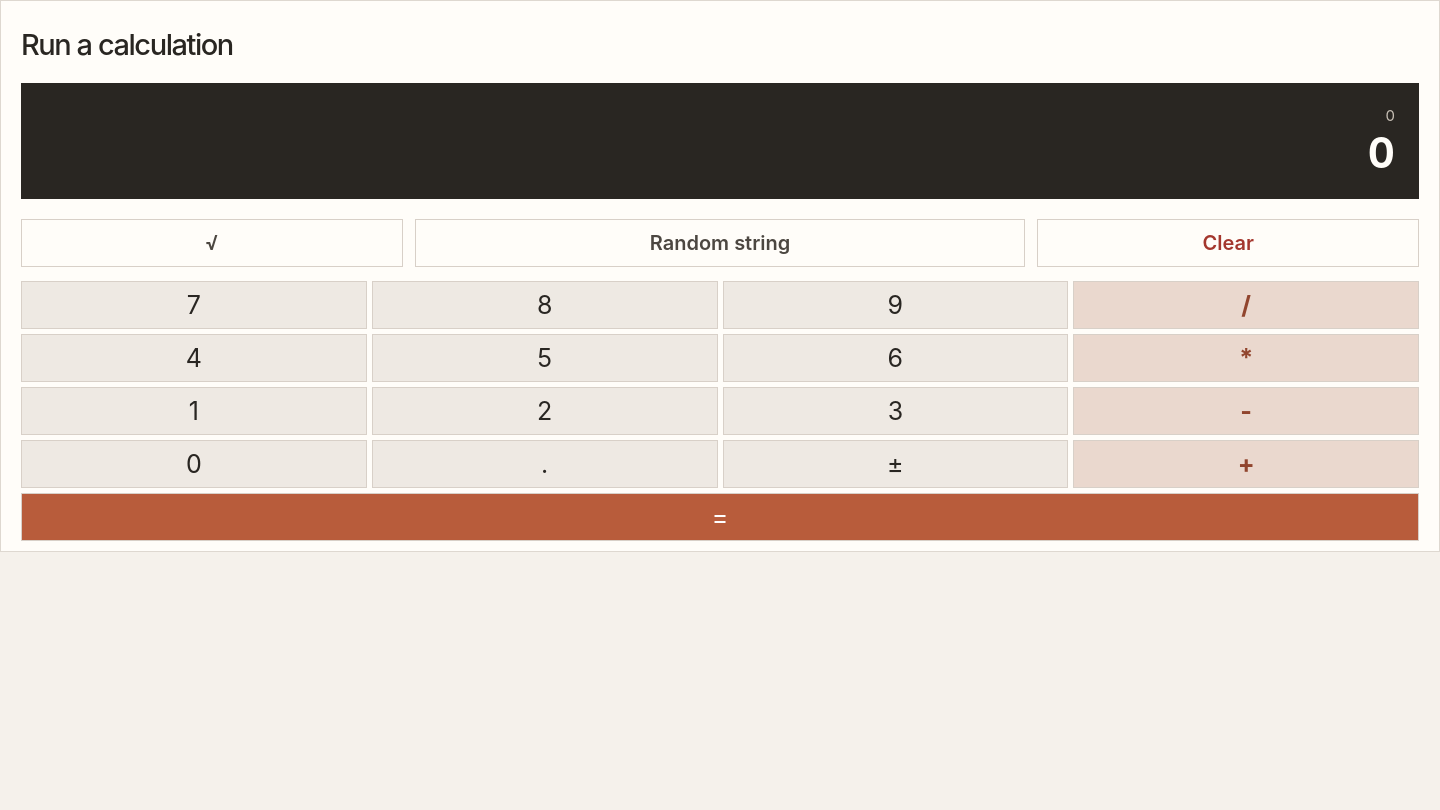
Test: Calculator › closes the Bootstrap alert with its in-layout close button
Click the button "2" at {"x": 545, "y": 411}, box [372,387,718,435]
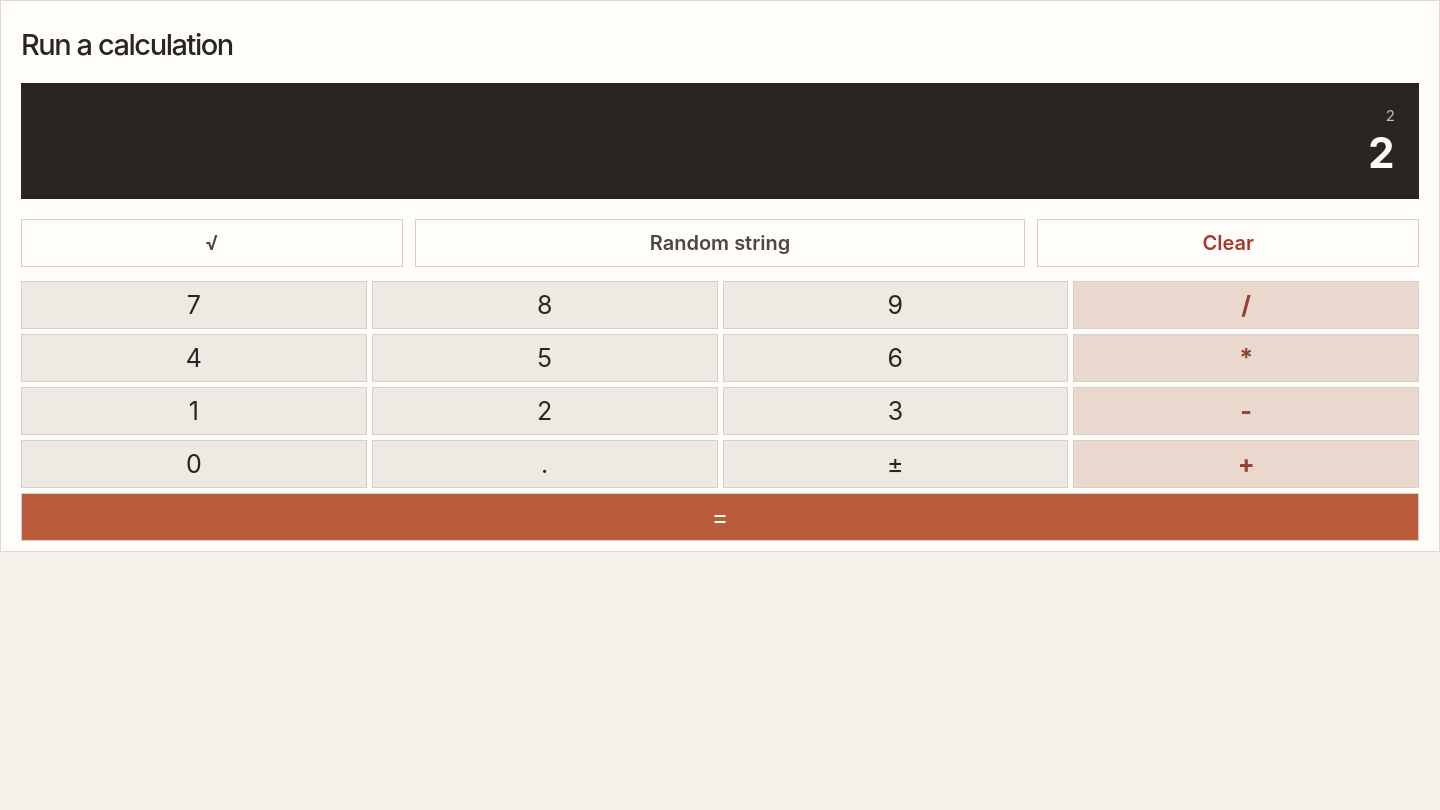
Click the button "+" at {"x": 1246, "y": 464}, box [1073,440,1419,488]
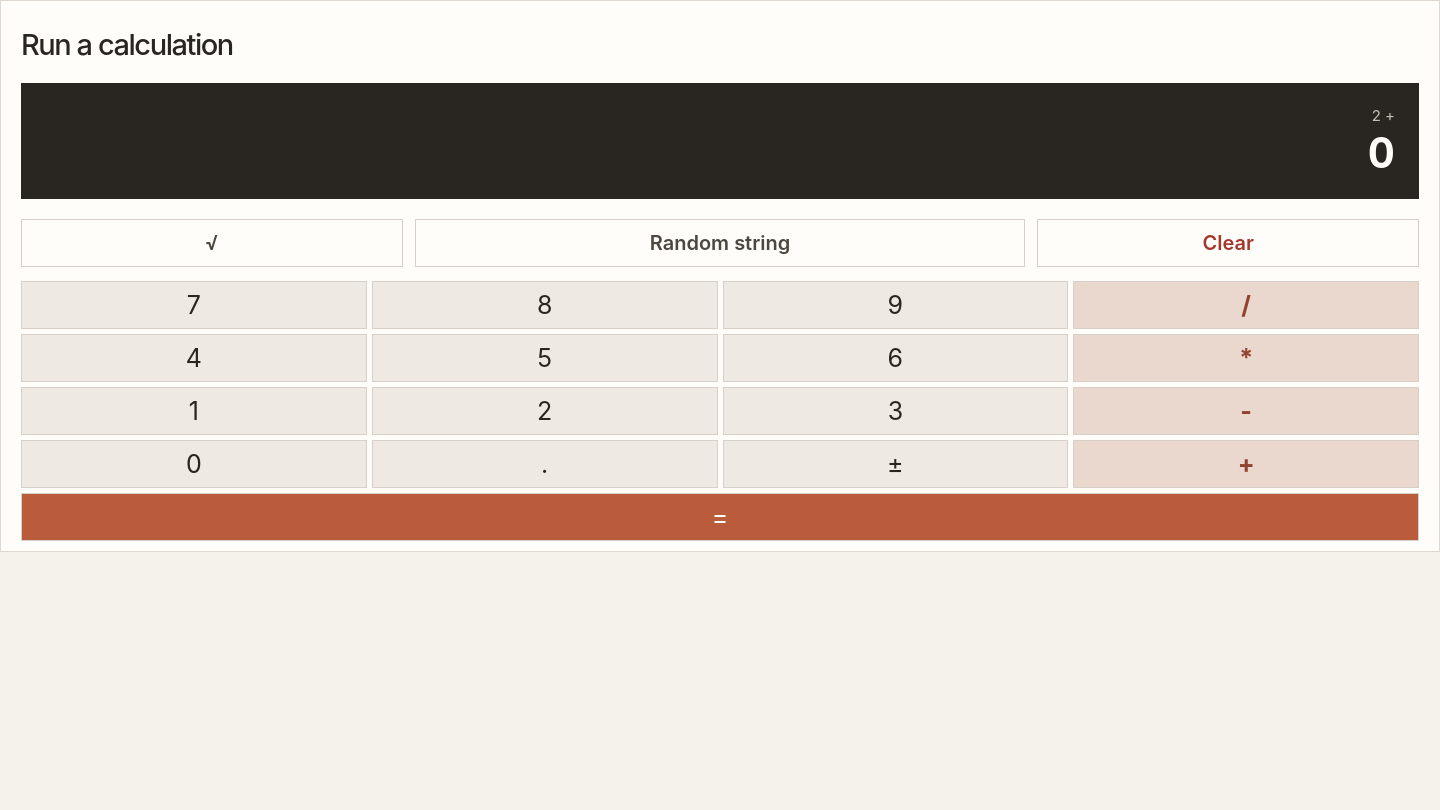
Click the button "3" at {"x": 895, "y": 411}, box [722,387,1068,435]
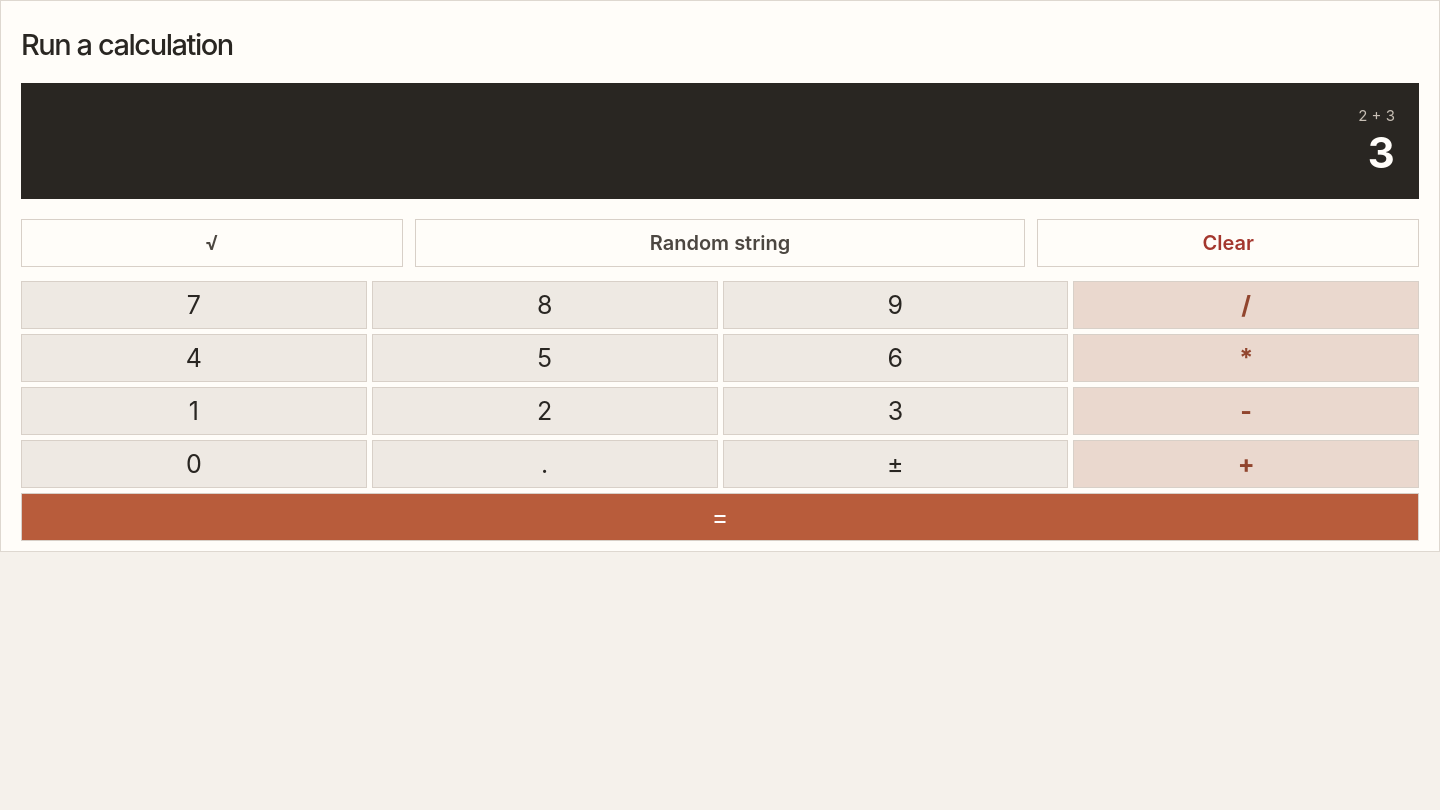
Click the button "=" at {"x": 720, "y": 517}, box [21,493,1419,541]
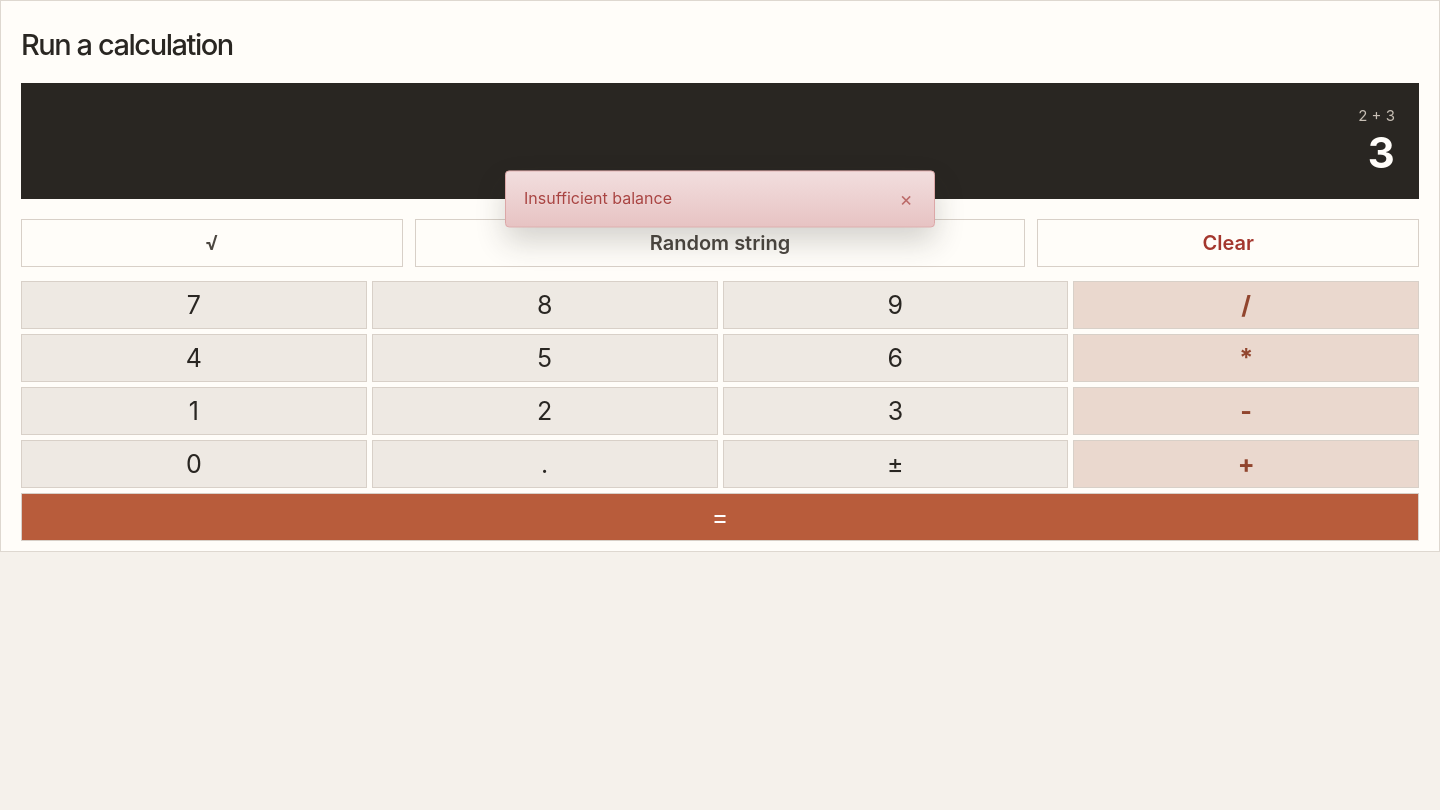
Expected: the message reads "Insufficient balance", [524,189,672,209]
Click the button named "Close alert" at {"x": 906, "y": 199}, box [888,181,924,217]
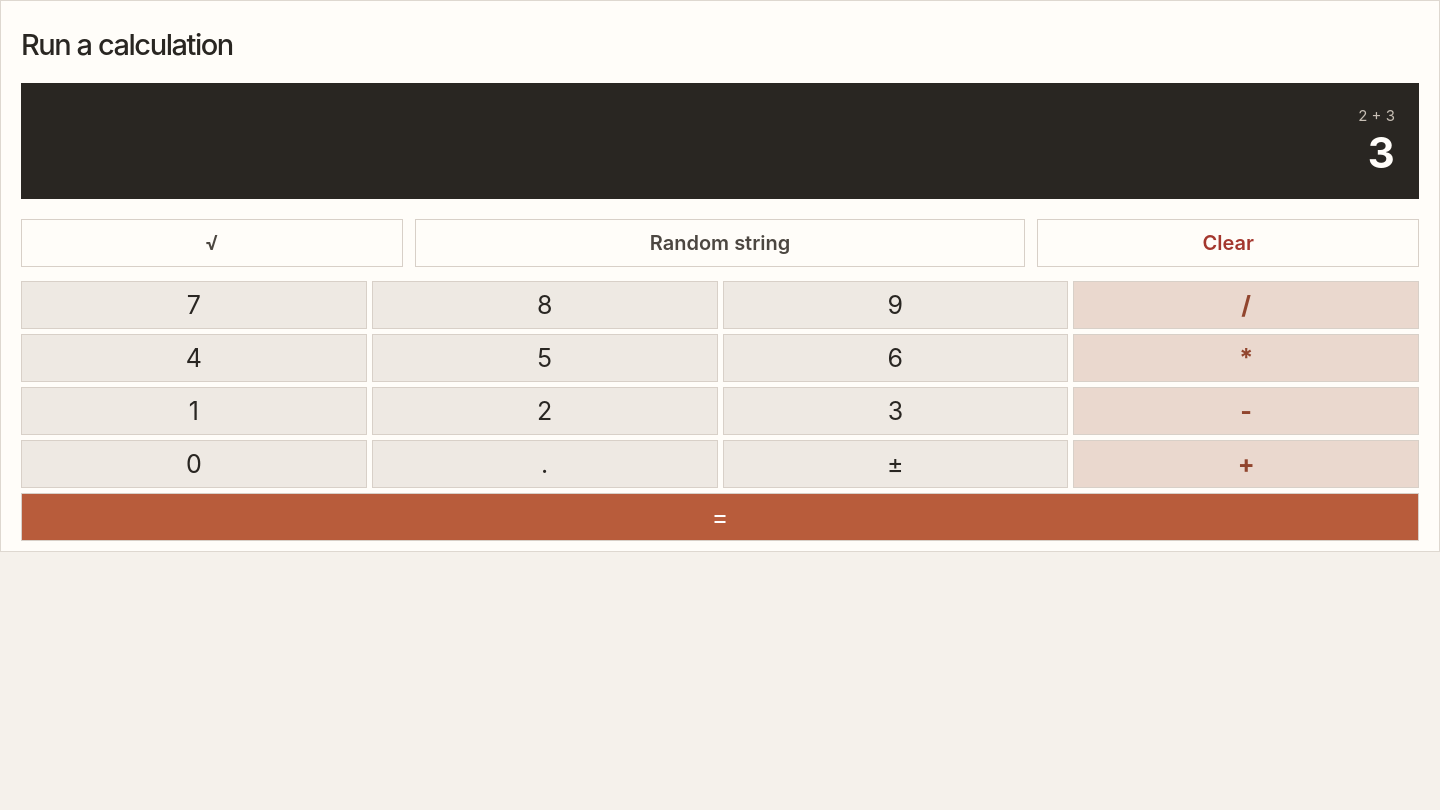
Expected: the message "Insufficient balance" is gone
